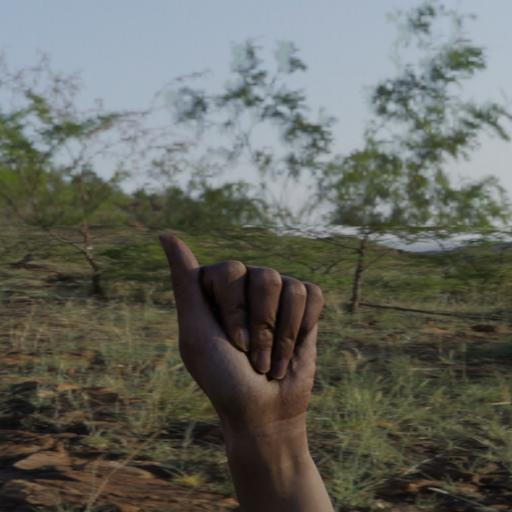A: (151, 231, 331, 416)
